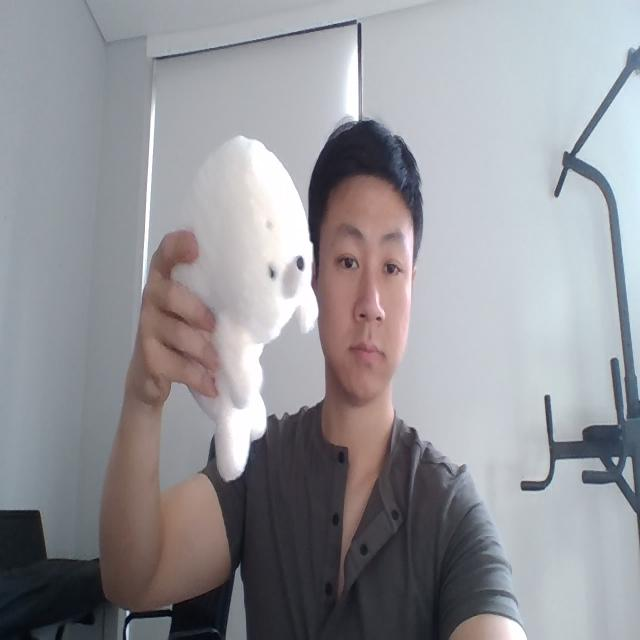seal_bb: (172, 134, 318, 484)
